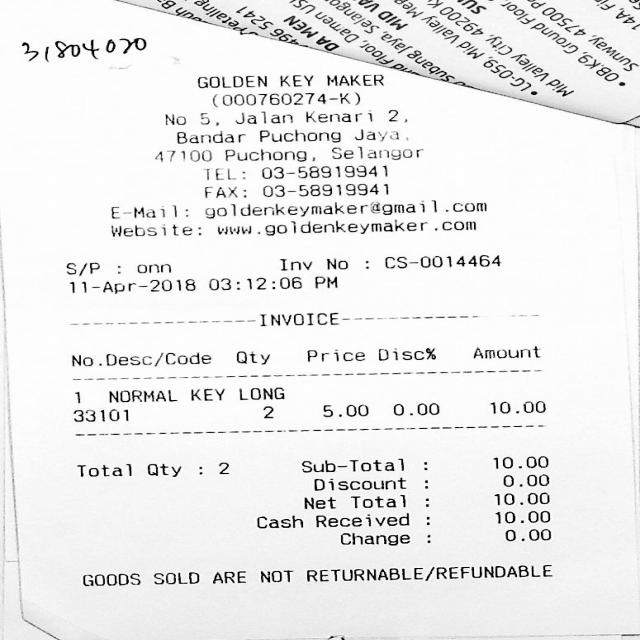text: (306, 564, 551, 581), (204, 199, 435, 217), (216, 219, 474, 235), (212, 92, 358, 106), (69, 352, 210, 365), (69, 278, 194, 292), (261, 165, 386, 178), (262, 183, 386, 196), (384, 255, 500, 268), (301, 458, 403, 472), (315, 512, 408, 526), (207, 277, 301, 290), (330, 146, 421, 159), (314, 476, 405, 489), (224, 149, 314, 161), (110, 224, 200, 236), (258, 129, 339, 142), (258, 312, 338, 325), (110, 205, 188, 217), (197, 75, 266, 88), (109, 389, 176, 402), (339, 532, 408, 544), (472, 346, 540, 358), (177, 131, 244, 143), (349, 494, 405, 508), (304, 111, 371, 122), (488, 400, 544, 413), (71, 408, 127, 421), (377, 348, 435, 360), (306, 349, 364, 361), (82, 573, 140, 585), (153, 149, 210, 161), (234, 111, 290, 123), (493, 492, 549, 504), (493, 456, 548, 468), (494, 510, 548, 522), (77, 464, 130, 476), (326, 74, 383, 85), (393, 403, 439, 415), (353, 128, 398, 140), (503, 474, 548, 486), (257, 515, 302, 527), (153, 572, 198, 584), (238, 386, 282, 398), (323, 404, 366, 416), (203, 186, 245, 198), (504, 529, 549, 540), (206, 168, 243, 180), (236, 351, 270, 364), (189, 388, 223, 400), (302, 496, 336, 508), (279, 74, 312, 86), (66, 262, 99, 274), (146, 464, 179, 476), (212, 570, 245, 582), (260, 570, 292, 582), (444, 202, 486, 211), (279, 258, 311, 269), (136, 263, 170, 272), (315, 276, 337, 288), (326, 258, 347, 268), (164, 114, 184, 124), (262, 406, 272, 418), (217, 462, 227, 473), (388, 110, 397, 122), (200, 112, 207, 124), (74, 392, 80, 402)
